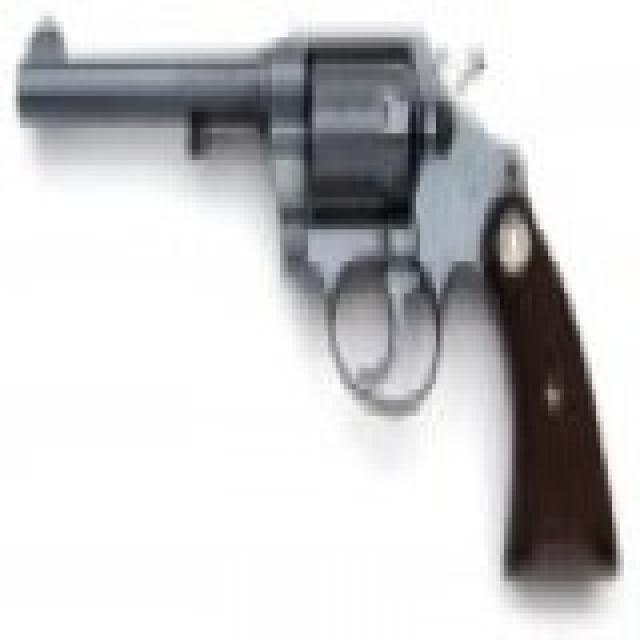gun: (16, 6, 620, 582)
